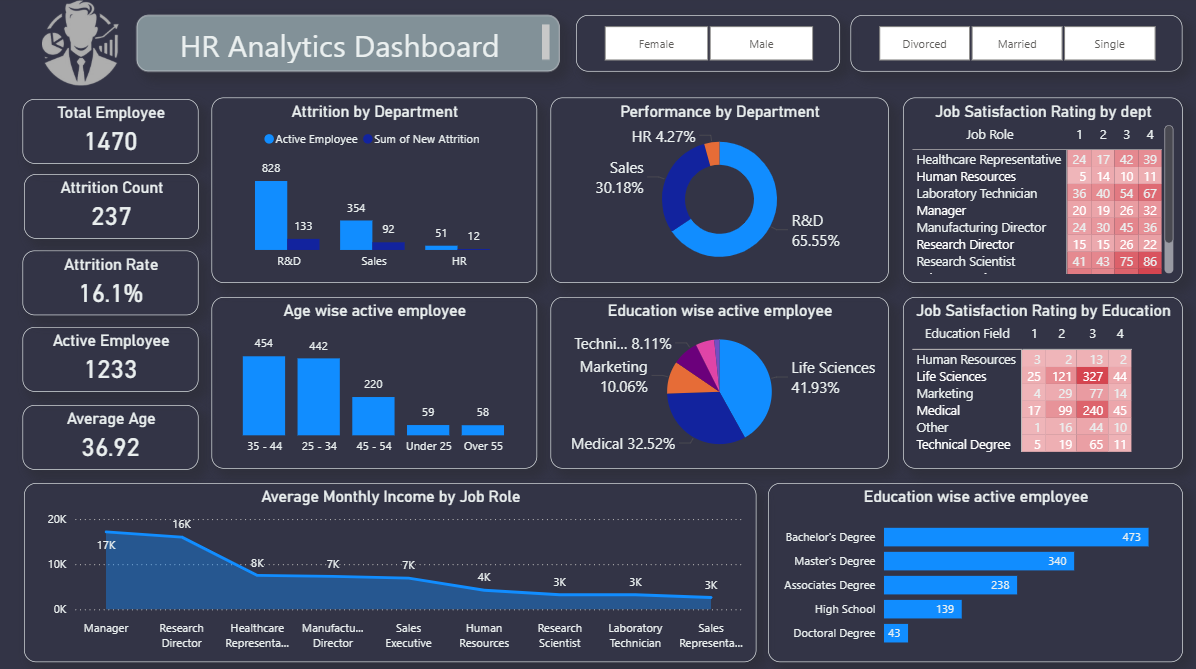

Layout of this report page (visuals, bound fields, positions):
{"tool":"powerbi","page":{"name":"HR Analytics Summary","canvas":[1280,720],"ordinal":0},"visuals":[{"type":"textbox","box":[151.7,21.7,448.3,60],"z":0},{"type":"image","box":[30,2.2,122.2,100],"z":1000},{"type":"card","title":"Total Employee","fields":{"Values":["Sum(HR data.Employee Count)"]},"box":[30,110.8,186.7,68.3],"z":2000},{"type":"card","title":"Active Employee","fields":{"Values":["HR data.Active Employee"]},"box":[30,352.5,186.7,68.3],"z":3000},{"type":"card","title":"Average Age","fields":{"Values":["Avg(HR data.Age)"]},"box":[30,435.8,186.7,68.3],"z":4000},{"type":"card","title":"Attrition Rate","fields":{"Values":["HR data.Attrition Rate"]},"box":[30,272.5,186.7,68.3],"z":5000},{"type":"card","title":"Attrition Count","fields":{"Values":["Sum(HR data.New Attrition)"]},"box":[31.7,190.8,185,68.3],"z":6000},{"type":"clusteredColumnChart","title":"Attrition by Department","fields":{"Category":["HR data.Department"],"Y":["HR data.Active Employee","Sum(HR data.New Attrition)"]},"box":[230,110,345,196.7],"z":7000},{"type":"slicer","fields":{"Values":["HR data.Gender"]},"box":[616.7,21.7,280,60],"z":8000},{"type":"slicer","fields":{"Values":["HR data.Marital Status"]},"box":[908.3,21.7,351.7,60],"z":9000},{"type":"clusteredColumnChart","title":"Age wise active employee","fields":{"Category":["HR data.CF_age band"],"Y":["HR data.Active Employee"]},"box":[230,321.7,345,181.7],"z":10000},{"type":"pieChart","title":"Education wise active employee","fields":{"Y":["HR data.Active Employee"],"Category":["HR data.Education Field"]},"box":[590,321.7,358.3,181.7],"z":11000},{"type":"donutChart","title":"Performance by Department","fields":{"Y":["Sum(HR data.Performance Rating)"],"Category":["HR data.Department"]},"box":[590,110,358.3,196.7],"z":12000},{"type":"areaChart","title":"Average Monthly Income by Job Role","fields":{"Category":["HR data.Job Role"],"Y":["Avg(HR data.Monthly Income)"]},"box":[31.7,517.8,776.7,190],"z":13000},{"type":"clusteredBarChart","title":"Education wise active employee","fields":{"Category":["HR data.Education"],"Y":["HR data.Active Employee"]},"box":[820,517.8,440,190],"z":14000},{"type":"pivotTable","title":"Job Satisfaction Rating by dept","fields":{"Columns":["HR data.Job Satisfaction"],"Rows":["HR data.Job Role"],"Values":["HR data.Active Employee"]},"box":[963.3,110,296.7,196.7],"z":15000},{"type":"pivotTable","title":"Job Satisfaction Rating by Education","fields":{"Values":["HR data.Active Employee"],"Columns":["HR data.Work Life Balance"],"Rows":["HR data.Education Field"]},"box":[963.3,321.7,296.7,181.7],"z":16000}]}

Visuals, with their boxes in screenshot pixels (x1, y1, x2, y2), scaled from the page's 1280x720 canvas onto the 1196x669 screenshot:
textbox: bbox=[142, 20, 561, 76]
image: bbox=[28, 2, 142, 95]
"Total Employee" card: bbox=[28, 103, 202, 166]
"Active Employee" card: bbox=[28, 328, 202, 391]
"Average Age" card: bbox=[28, 405, 202, 468]
"Attrition Rate" card: bbox=[28, 253, 202, 317]
"Attrition Count" card: bbox=[30, 177, 202, 241]
"Attrition by Department" clusteredColumnChart: bbox=[215, 102, 537, 285]
slicer - HR data.Gender: bbox=[576, 20, 838, 76]
slicer - HR data.Marital Status: bbox=[849, 20, 1177, 76]
"Age wise active employee" clusteredColumnChart: bbox=[215, 299, 537, 468]
"Education wise active employee" pieChart: bbox=[551, 299, 886, 468]
"Performance by Department" donutChart: bbox=[551, 102, 886, 285]
"Average Monthly Income by Job Role" areaChart: bbox=[30, 481, 755, 658]
"Education wise active employee" clusteredBarChart: bbox=[766, 481, 1177, 658]
"Job Satisfaction Rating by dept" pivotTable: bbox=[900, 102, 1177, 285]
"Job Satisfaction Rating by Education" pivotTable: bbox=[900, 299, 1177, 468]
